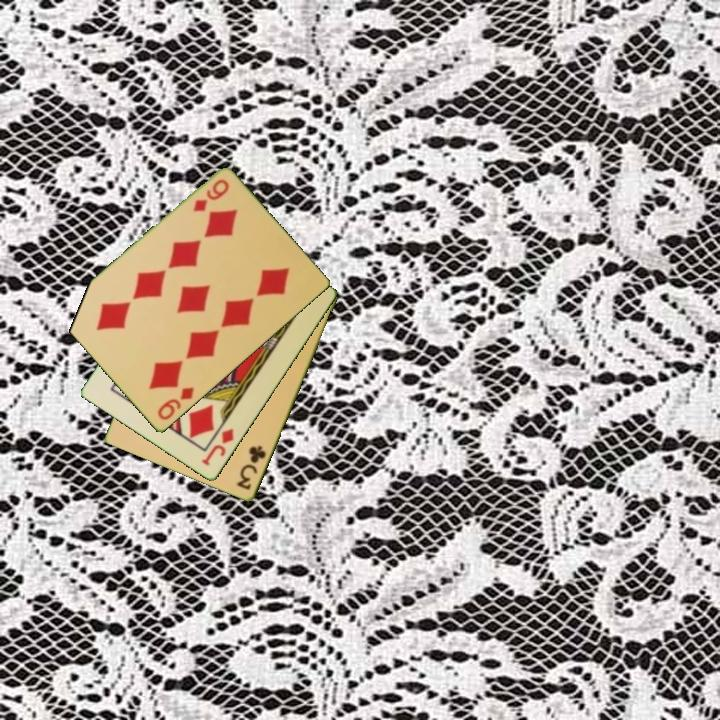3c: (233, 442, 269, 493)
9d: (154, 384, 197, 423), (189, 176, 232, 215)
Jd: (198, 425, 237, 469)
